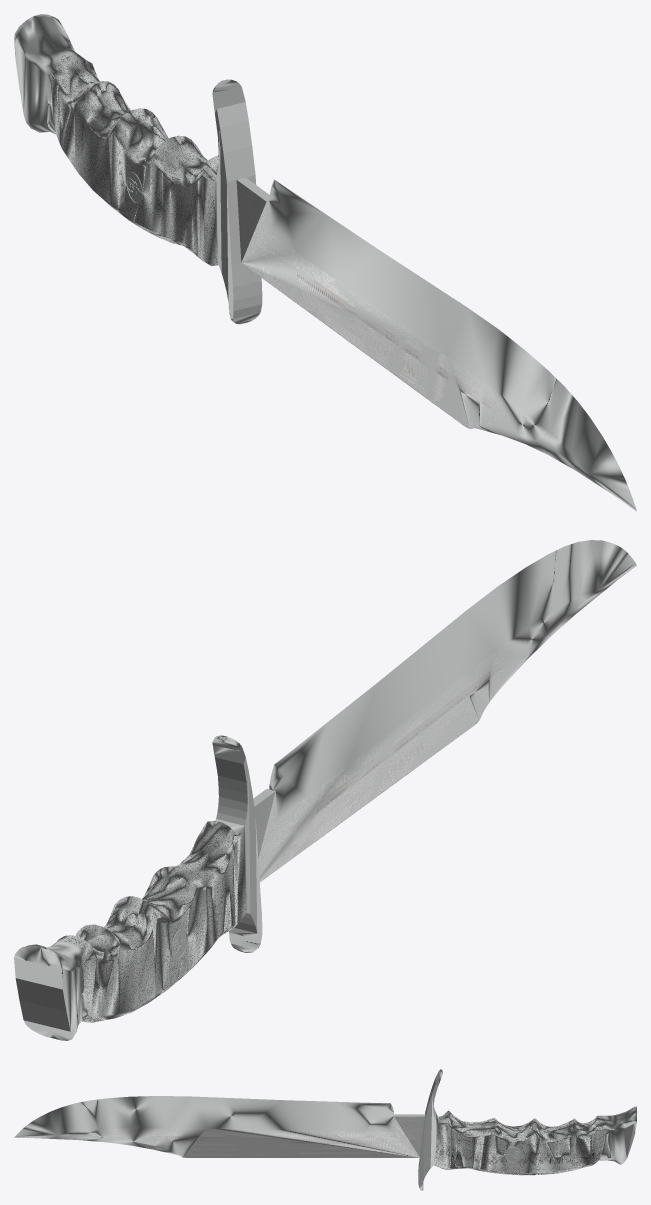
File: model_align.obj
The picture shows the model from 3 angles, top to bottom: view 1: azimuth 30°, elevation 25°; view 2: azimuth 150°, elevation 25°; view 3: azimuth 270°, elevation 25°; orthographic projection. The views are drawn at different scales.
Size of the model in its own units: 0.0102 by 0.0475 by 0.2247.
